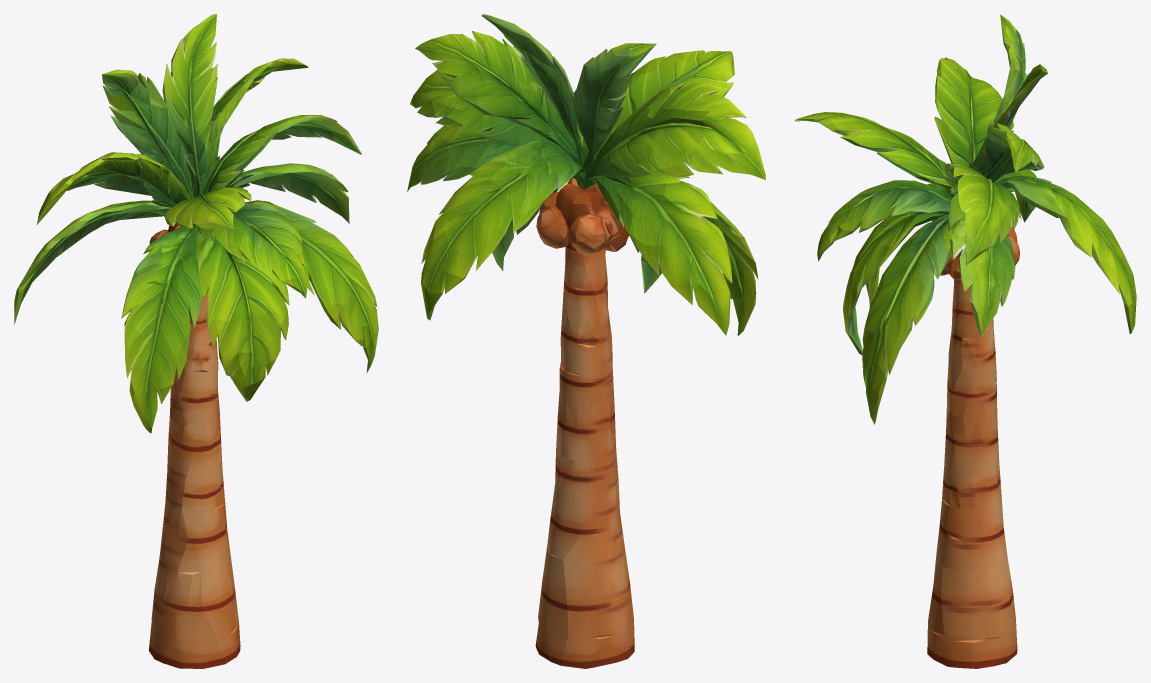
The model's file is palm.glb.
The picture shows the model from 3 angles, left to right: view 1: azimuth 30°, elevation 25°; view 2: azimuth 150°, elevation 25°; view 3: azimuth 270°, elevation 25°; orthographic projection. The views are drawn at different scales.
Bounding box in the file's own units: 1.09 × 1.9 × 0.9708.
1 material, 1 textured.
